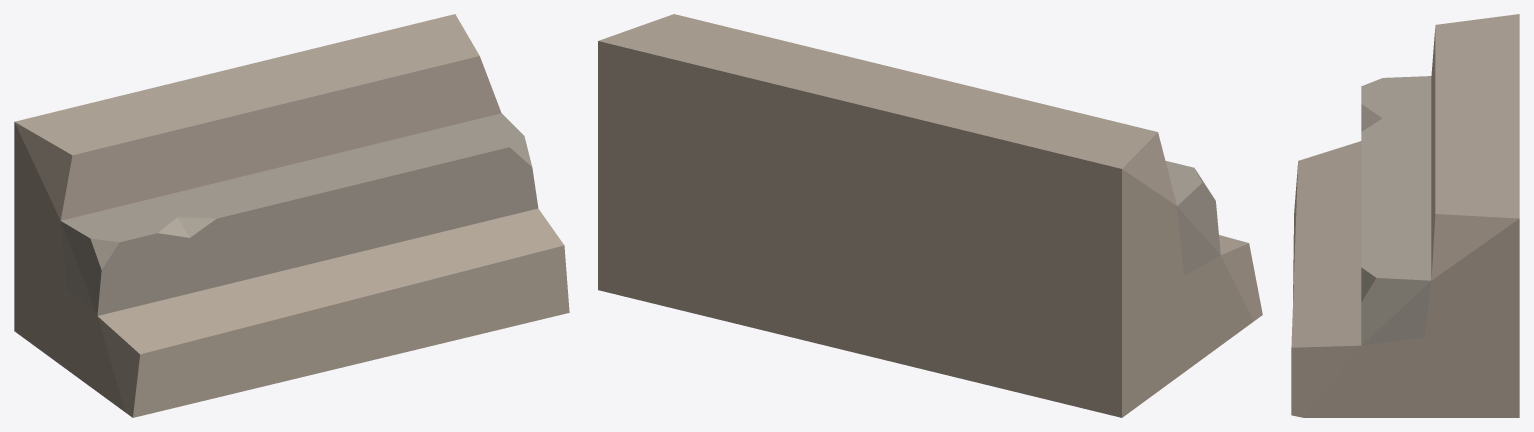
File: SM_Bld_Village_Stairs_Small_02.glb
3 views of the same model, side by side, from view 1: azimuth 30°, elevation 25°; view 2: azimuth 150°, elevation 25°; view 3: azimuth 270°, elevation 25° (orthographic). The views are drawn at different scales.
Visible parts, largest first — view 1: SM_Bld_Village_Stairs_Small_02; view 2: SM_Bld_Village_Stairs_Small_02; view 3: SM_Bld_Village_Stairs_Small_02.
Part boxes in pixels (bbox=[...]): SM_Bld_Village_Stairs_Small_02: bbox=[14, 14, 569, 417]; SM_Bld_Village_Stairs_Small_02: bbox=[598, 14, 1262, 417]; SM_Bld_Village_Stairs_Small_02: bbox=[1291, 14, 1519, 417].
Bounding box in the file's own units: 1.84 × 0.8348 × 0.8654.
Materials: 1 (1 with a texture image).
